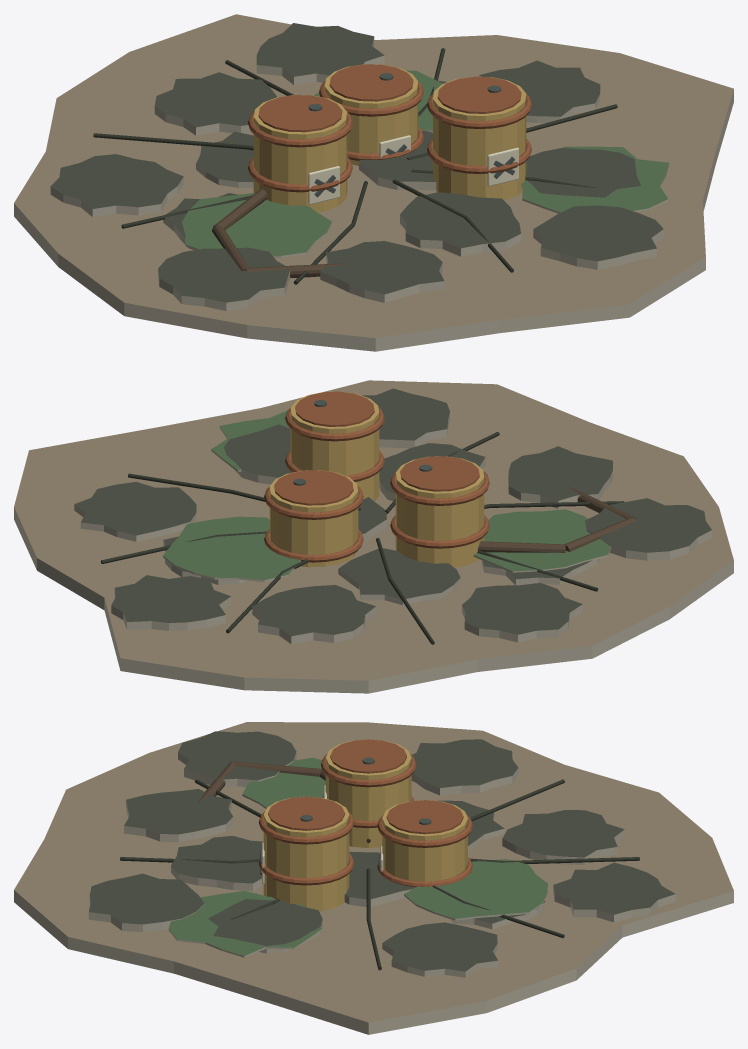
The model's file is Lakebed_Drum_Sink_Polluted.glb.
3 views of the same model, one above another, from view 1: azimuth 30°, elevation 25°; view 2: azimuth 150°, elevation 25°; view 3: azimuth 270°, elevation 25° (orthographic). The views are drawn at different scales.
Visible parts, largest first — view 1: Structure; view 2: Structure; view 3: Structure.
Part boxes in pixels (left/top/right/bottom): Structure: left=14, top=14, right=733, bottom=351; Structure: left=14, top=380, right=733, bottom=693; Structure: left=14, top=722, right=733, bottom=1034.
Size of the model in its own units: 6.3 by 1.21 by 6.38.
